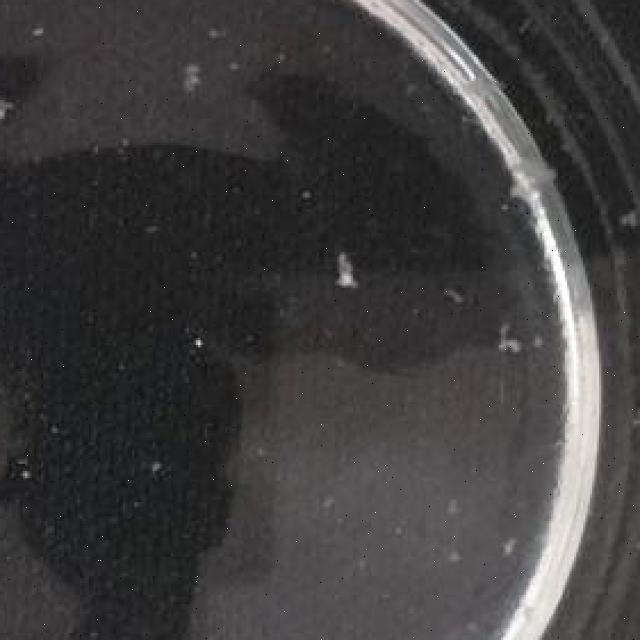Microplastic: (316, 240, 364, 319), (168, 38, 218, 100), (514, 150, 562, 202), (480, 316, 530, 362), (180, 316, 221, 357), (0, 78, 14, 140), (0, 364, 11, 409)
